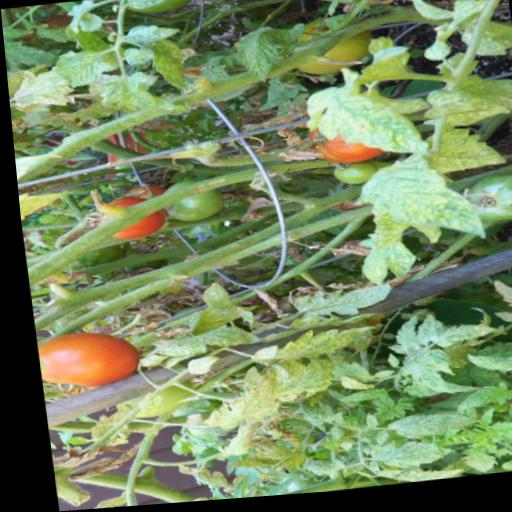Spider Mites: (343, 155, 481, 256), (294, 65, 426, 170), (240, 327, 374, 372), (126, 324, 258, 369), (90, 73, 186, 123), (230, 362, 328, 410), (414, 131, 503, 183), (417, 91, 507, 137), (284, 288, 388, 326), (188, 389, 264, 435), (349, 238, 413, 292), (135, 40, 191, 97), (227, 28, 279, 89), (374, 414, 467, 448), (358, 441, 445, 475), (6, 69, 73, 111), (402, 365, 473, 403), (45, 49, 105, 91), (276, 314, 374, 335), (364, 467, 453, 490), (456, 354, 512, 390), (420, 327, 491, 354), (441, 388, 504, 418), (3, 36, 57, 70), (191, 282, 233, 322), (376, 320, 414, 362), (205, 424, 244, 461), (319, 363, 366, 392), (285, 401, 326, 433), (122, 24, 181, 46), (408, 354, 447, 385), (483, 283, 512, 318), (289, 459, 335, 481), (180, 466, 217, 493), (215, 457, 264, 476), (326, 392, 379, 409), (329, 392, 379, 409), (176, 357, 215, 378), (122, 0, 187, 12), (119, 47, 152, 68), (253, 333, 296, 346), (332, 0, 407, 6), (309, 435, 329, 456), (2, 26, 33, 39), (363, 435, 380, 451), (353, 416, 369, 432), (321, 416, 336, 429), (357, 465, 369, 476), (509, 397, 512, 428)
